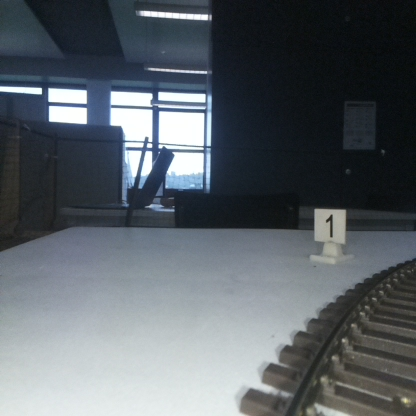white-stop-1: (314, 207, 345, 261)
